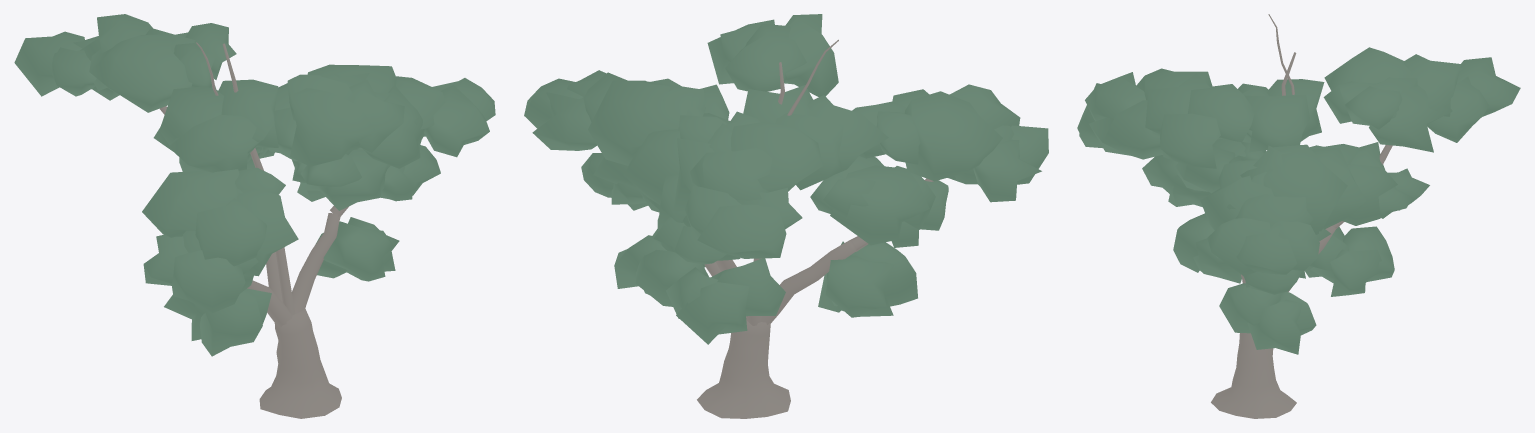
File: Blender_AlligatorJuniper_2.glb
The picture shows the model from 3 angles, left to right: view 1: azimuth 30°, elevation 25°; view 2: azimuth 150°, elevation 25°; view 3: azimuth 270°, elevation 25°; orthographic projection. The views are drawn at different scales.
Visible parts, largest first — view 1: Blender_AlligatorJuniper_2; view 2: Blender_AlligatorJuniper_2; view 3: Blender_AlligatorJuniper_2.
Part boxes in pixels (box(x1,y1,x2,y2)): Blender_AlligatorJuniper_2: box(14, 14, 495, 418); Blender_AlligatorJuniper_2: box(524, 14, 1048, 418); Blender_AlligatorJuniper_2: box(1077, 14, 1520, 418).
Size of the model in its own units: 8.66 by 7.42 by 8.62.
